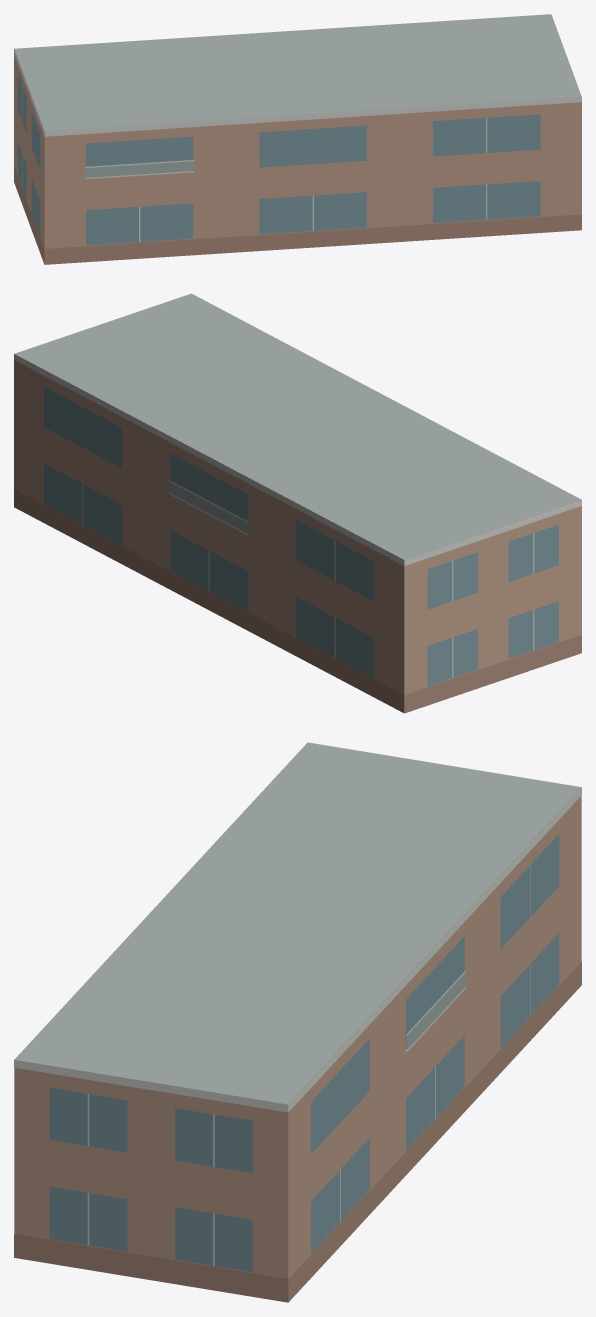
Rendered from survey-upis-32812759.glb.
3 views of the same model, one above another, from view 1: azimuth 30°, elevation 25°; view 2: azimuth 150°, elevation 25°; view 3: azimuth 270°, elevation 25° (orthographic). The views are drawn at different scales.
Visible parts, largest first — view 1: survey-upis-32812759.tmp; view 2: survey-upis-32812759.tmp; view 3: survey-upis-32812759.tmp.
Part boxes in pixels (left/top/right/bottom): survey-upis-32812759.tmp: left=14, top=14, right=581, bottom=264; survey-upis-32812759.tmp: left=14, top=293, right=581, bottom=713; survey-upis-32812759.tmp: left=14, top=742, right=581, bottom=1302.
Size of the model in its own units: 23.95 by 6.1 by 15.86.
